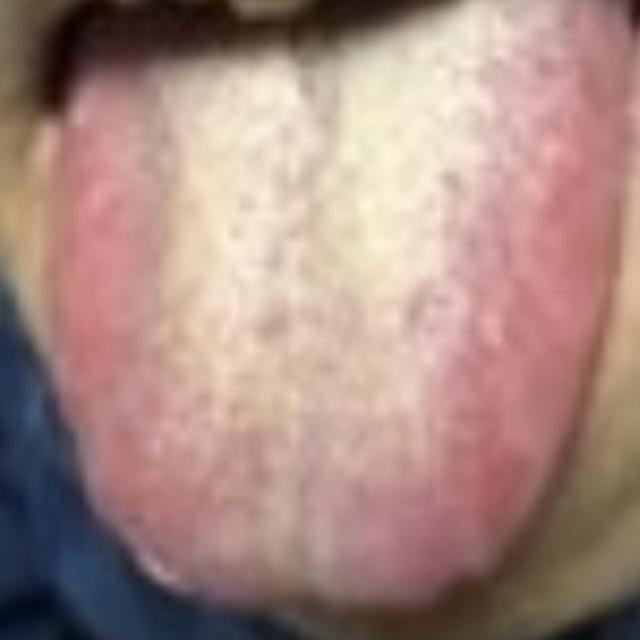huangtaishe: (44, 4, 630, 619)
